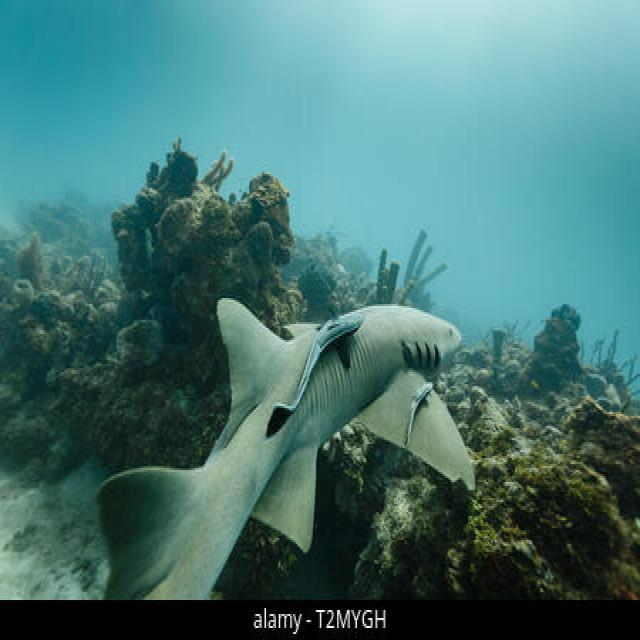Shark: (80, 258, 496, 600)
